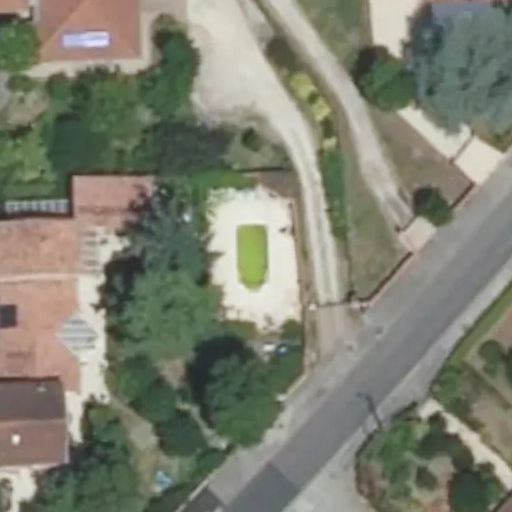pool: (235, 204, 276, 279)
